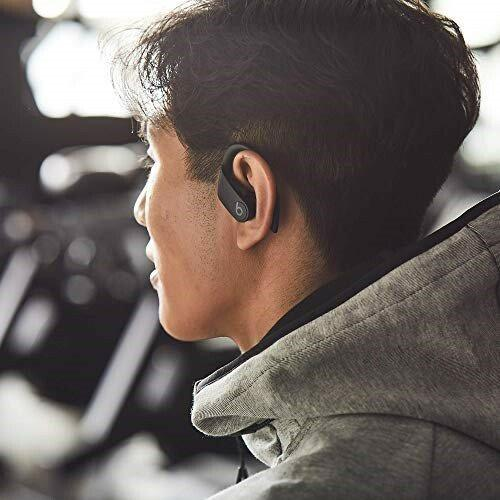earphone: (211, 168, 256, 223)
